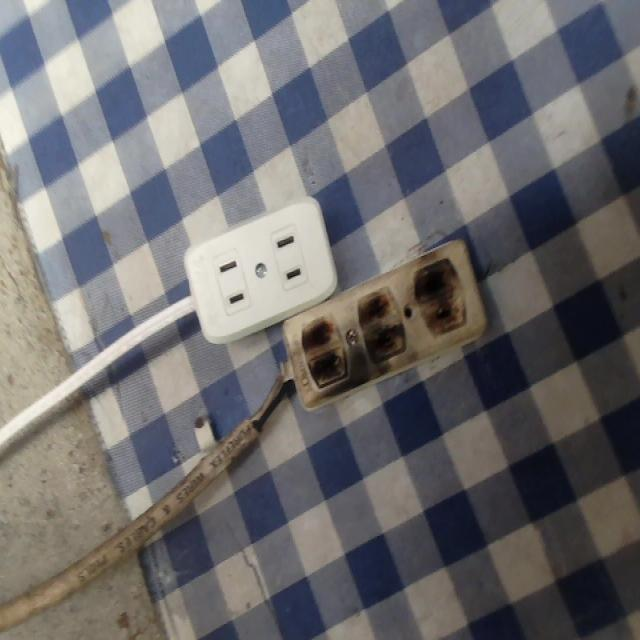-: (409, 252, 476, 347), (357, 287, 407, 369), (301, 312, 352, 389)
